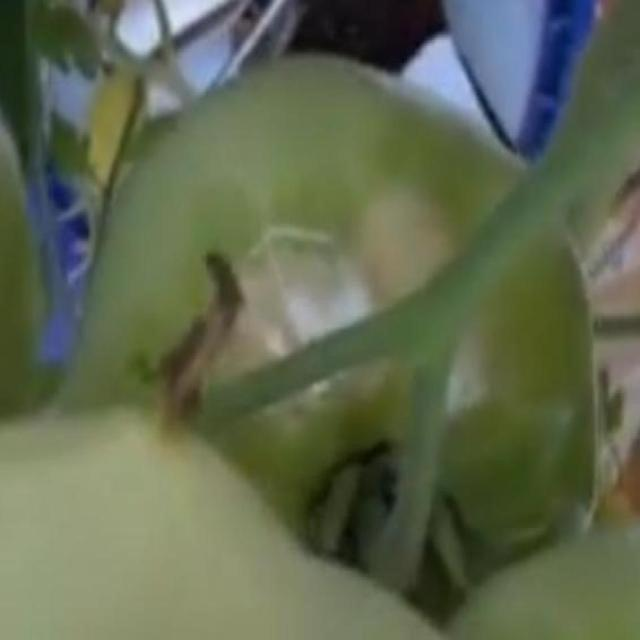Sunscald Fruit: (116, 119, 326, 277)
